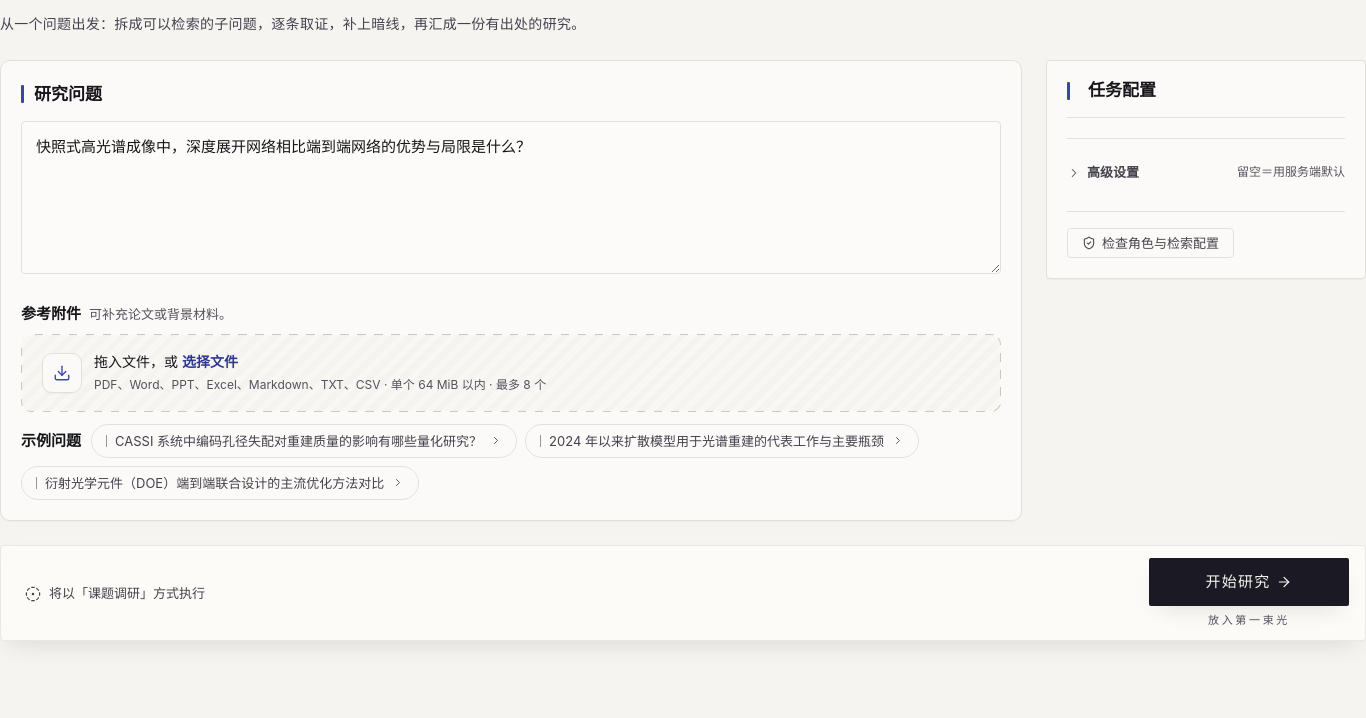
Test: NewResearchPage 澄清循环 › 信息不全时展示追问，且**不**创建研究
Replace the text in the text box labelled "研究问题" with "帮我看看" at x=511, y=197, box [21,121,1001,274]
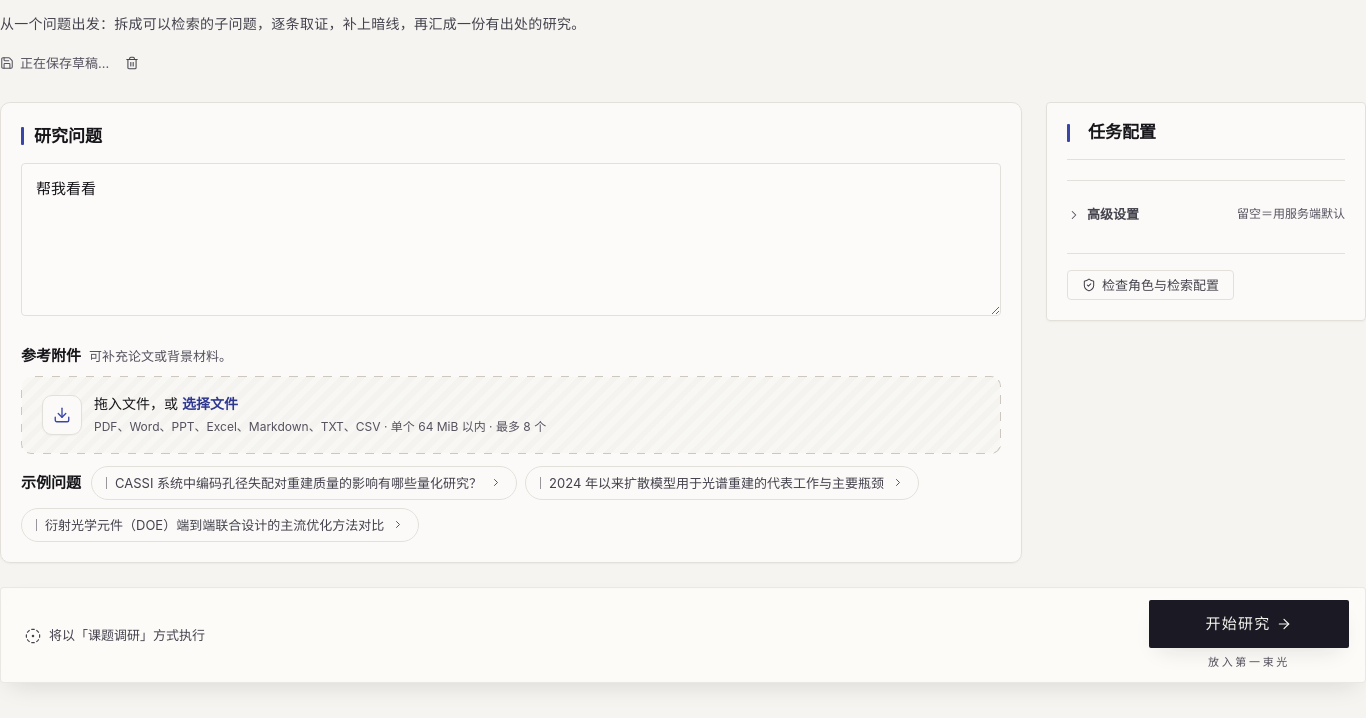
Click the button "开始研究" at x=1249, y=624, box [1149,600,1349,648]
(page scrolled)
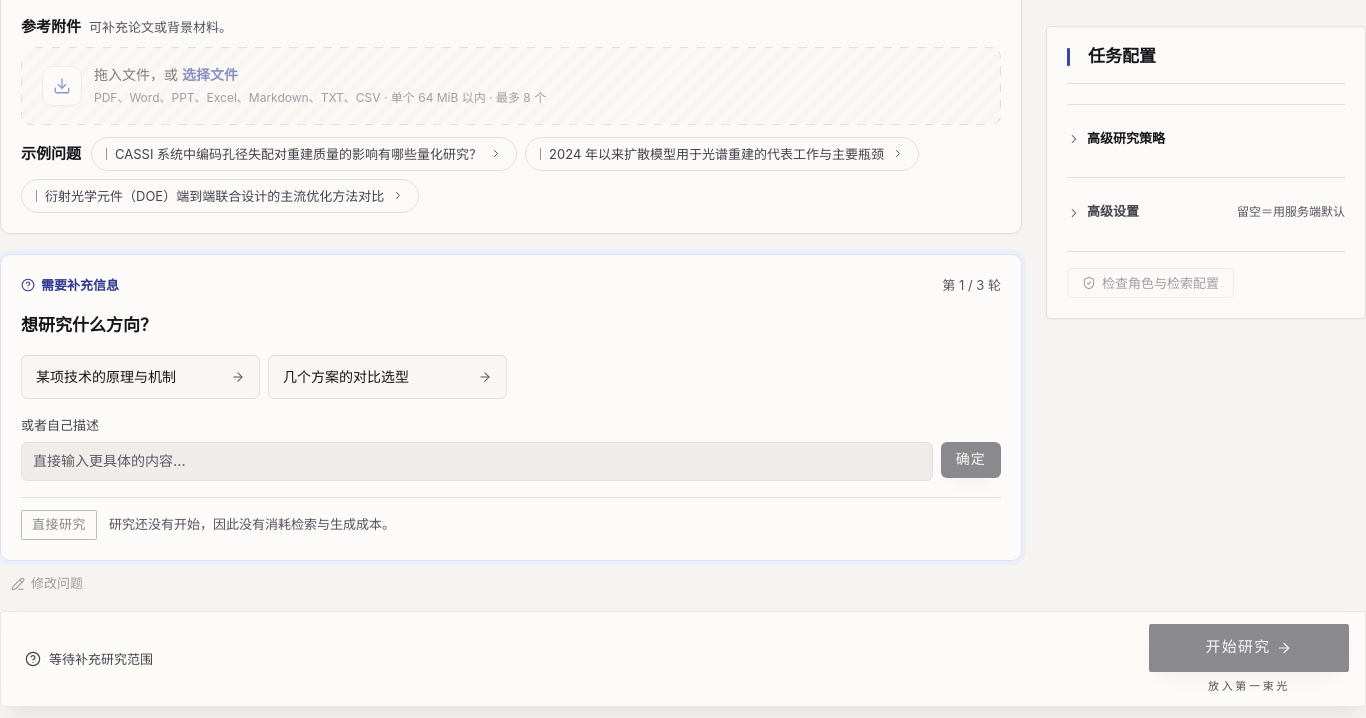
Now the text "想研究什么方向？" is shown, box [21,315,157,335]
Now the button "某项技术的原理与机制" is shown, box [21,355,260,399]
